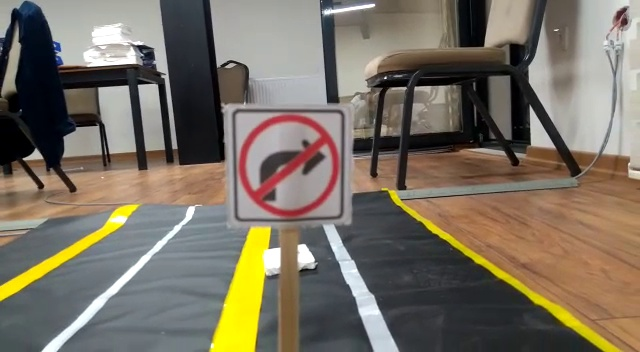saga_donulmez: (233, 105, 340, 219)
